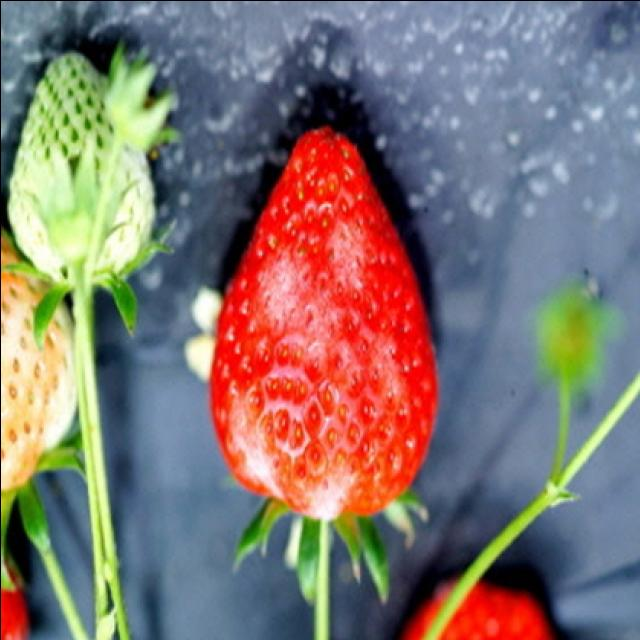Powdery Mildew Fruit: (206, 126, 438, 521)
